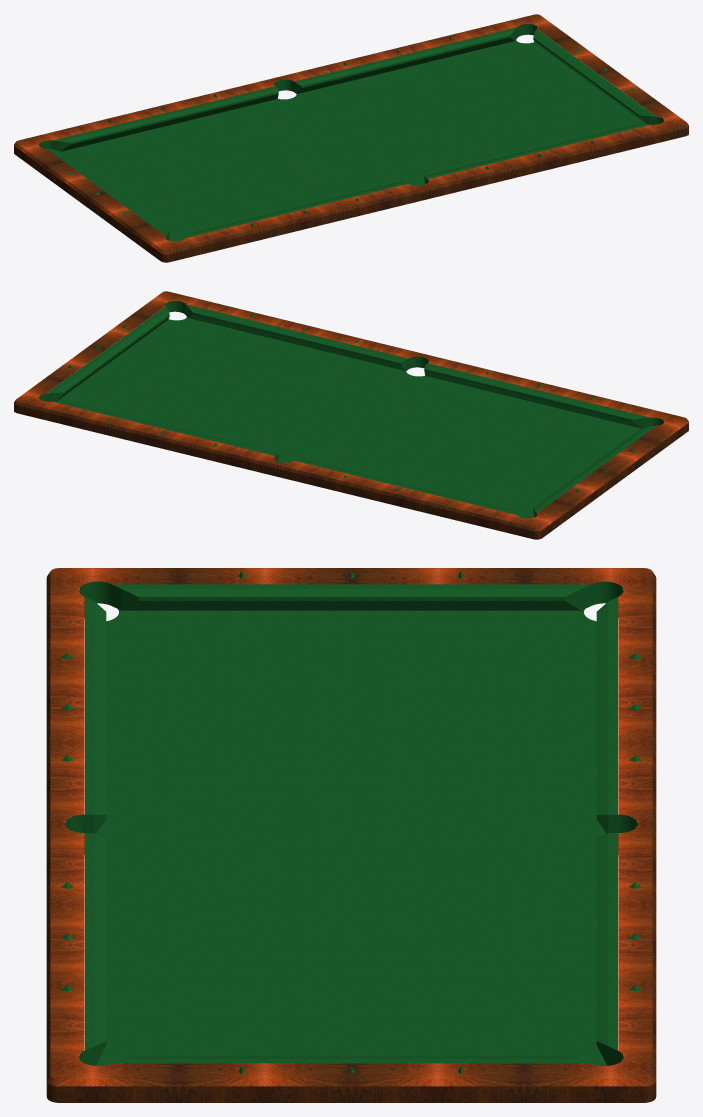
The model's file is table.dae.
3 renders of one model, top to bottom at view 1: azimuth 30°, elevation 25°; view 2: azimuth 150°, elevation 25°; view 3: azimuth 270°, elevation 25°, orthographic. The views are drawn at different scales.
Visible parts, largest first — view 1: Filz, Holzrand; view 2: Filz, Holzrand; view 3: Filz, Holzrand, Diamanten.
Part boxes in pixels (left/top/right/bottom): Filz: left=39, top=24, right=663, bottom=241; Holzrand: left=14, top=14, right=688, bottom=262; Filz: left=39, top=301, right=663, bottom=518; Holzrand: left=14, top=291, right=688, bottom=539; Filz: left=65, top=581, right=637, bottom=1065; Holzrand: left=46, top=568, right=656, bottom=1102; Diamanten: left=61, top=571, right=641, bottom=1074.
Size of the model in its own units: 83.26 by 41.65 by 2.04.
Materials: 2 (2 with a texture image).
